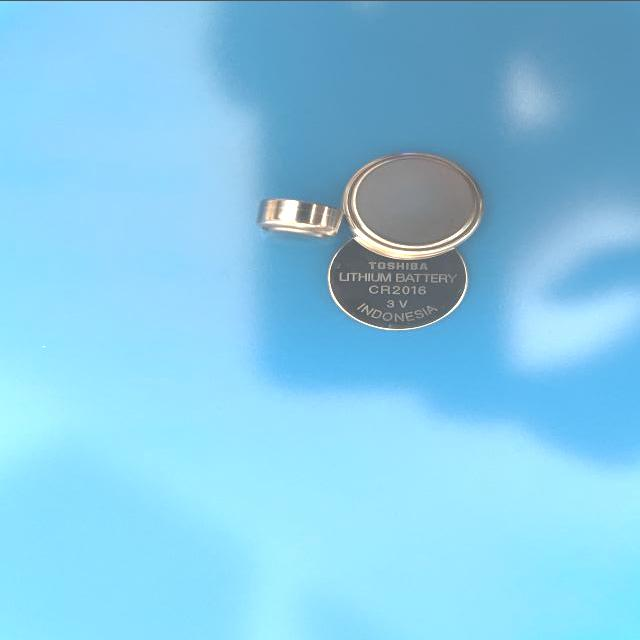COIN: (340, 148, 489, 262), (325, 225, 472, 332), (256, 188, 346, 240)
